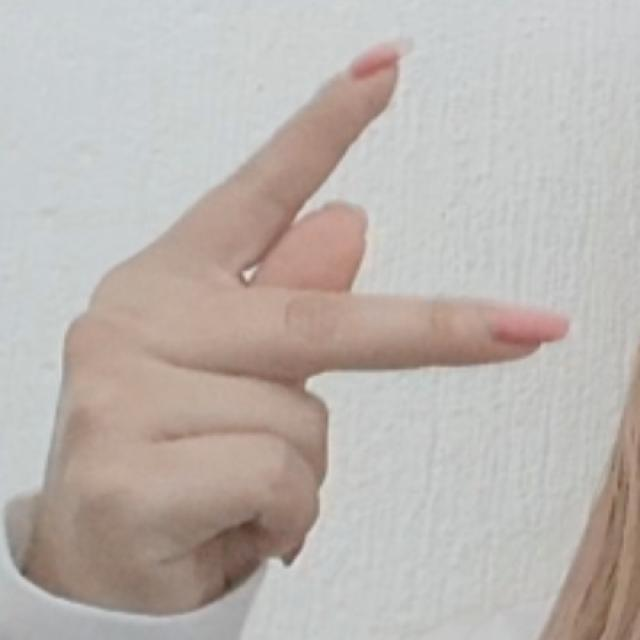K: (22, 22, 585, 584)
